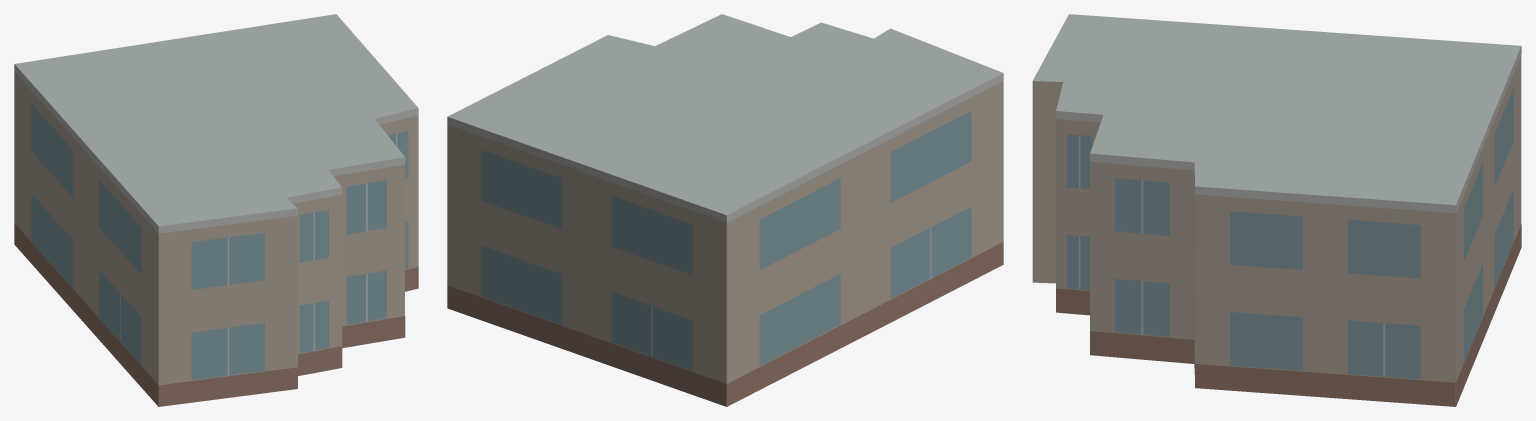
Rendered from survey-upis-32681734.glb.
3 views of the same model, side by side, from view 1: azimuth 30°, elevation 25°; view 2: azimuth 150°, elevation 25°; view 3: azimuth 270°, elevation 25° (orthographic). The views are drawn at different scales.
Visible parts, largest first — view 1: survey-upis-32681734.tmp; view 2: survey-upis-32681734.tmp; view 3: survey-upis-32681734.tmp.
Boxes of the visible parts, x1=… form: survey-upis-32681734.tmp: x1=14, y1=14, x2=418, y2=406; survey-upis-32681734.tmp: x1=447, y1=14, x2=1003, y2=406; survey-upis-32681734.tmp: x1=1032, y1=14, x2=1521, y2=406.
Size of the model in its own units: 12.42 by 6.1 by 13.42.
